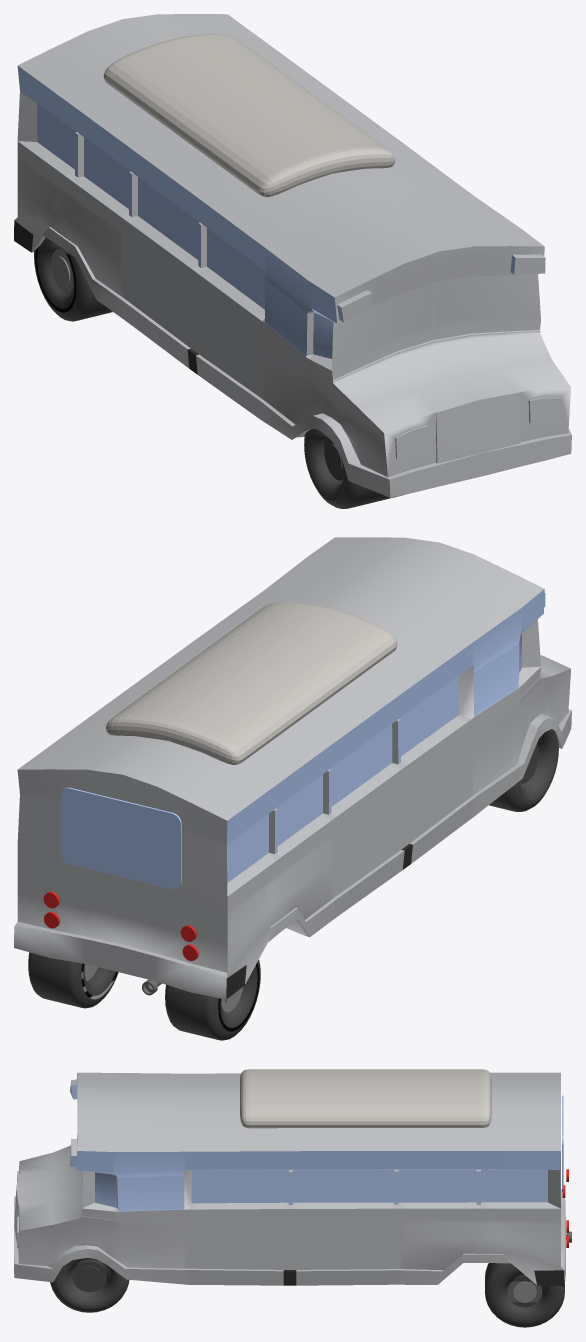
File: Bus_Materials.fbx
The picture shows the model from 3 angles, top to bottom: view 1: azimuth 30°, elevation 25°; view 2: azimuth 150°, elevation 25°; view 3: azimuth 270°, elevation 25°; orthographic projection. The views are drawn at different scales.
Visible parts, largest first — view 1: Bus_Body, Bus_Roof, Bus_Glass, RearWheel_Left, Bus_FrontTires; view 2: Bus_Body, Bus_Roof, Bus_Glass, Bus_RearWindshield, RearWheel_Left, RearWheel_Right, Bus_FrontTires, Bus_RedLights; view 3: Bus_Body, Bus_Glass, Bus_Roof, RearWheel_Right, Bus_FrontTires, Bus_BlackTrim.
Part boxes in pixels (x1,y1,x2,y2): Bus_Body: (14, 14, 571, 497); Bus_Roof: (103, 33, 395, 197); Bus_Glass: (17, 66, 515, 358); RearWheel_Left: (34, 237, 112, 321); Bus_FrontTires: (304, 428, 404, 508); Bus_Body: (14, 537, 571, 999); Bus_Roof: (106, 602, 397, 764); Bus_Glass: (227, 589, 545, 882); Bus_RearWindshield: (60, 787, 181, 889); RearWheel_Left: (165, 960, 260, 1040); RearWheel_Right: (28, 952, 118, 1008); Bus_FrontTires: (489, 729, 558, 811); Bus_RedLights: (43, 891, 198, 960); Bus_Body: (14, 1072, 565, 1285); Bus_Glass: (70, 1085, 560, 1211); Bus_Roof: (240, 1069, 491, 1128); RearWheel_Right: (485, 1263, 564, 1327); Bus_FrontTires: (50, 1258, 129, 1312); Bus_BlackTrim: (283, 1270, 564, 1286).
Bounding box in the file's own units: 3.86 × 4.38 × 10.53.
